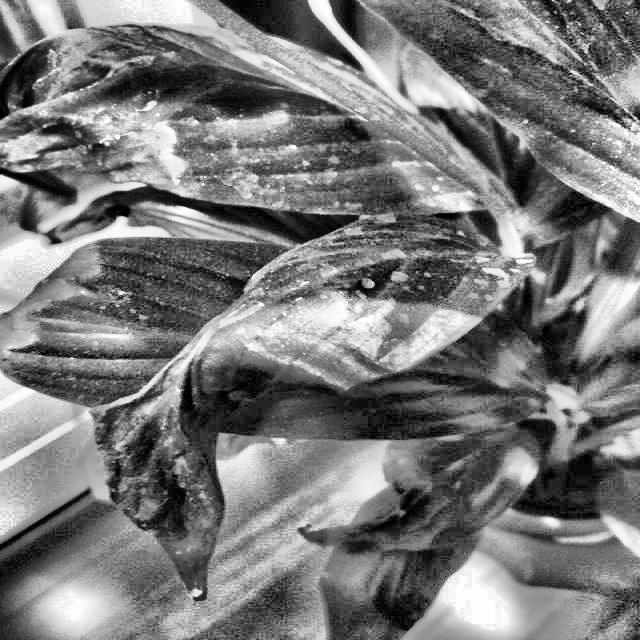plants: (0, 0, 639, 639), (98, 213, 498, 592), (7, 18, 486, 215)
